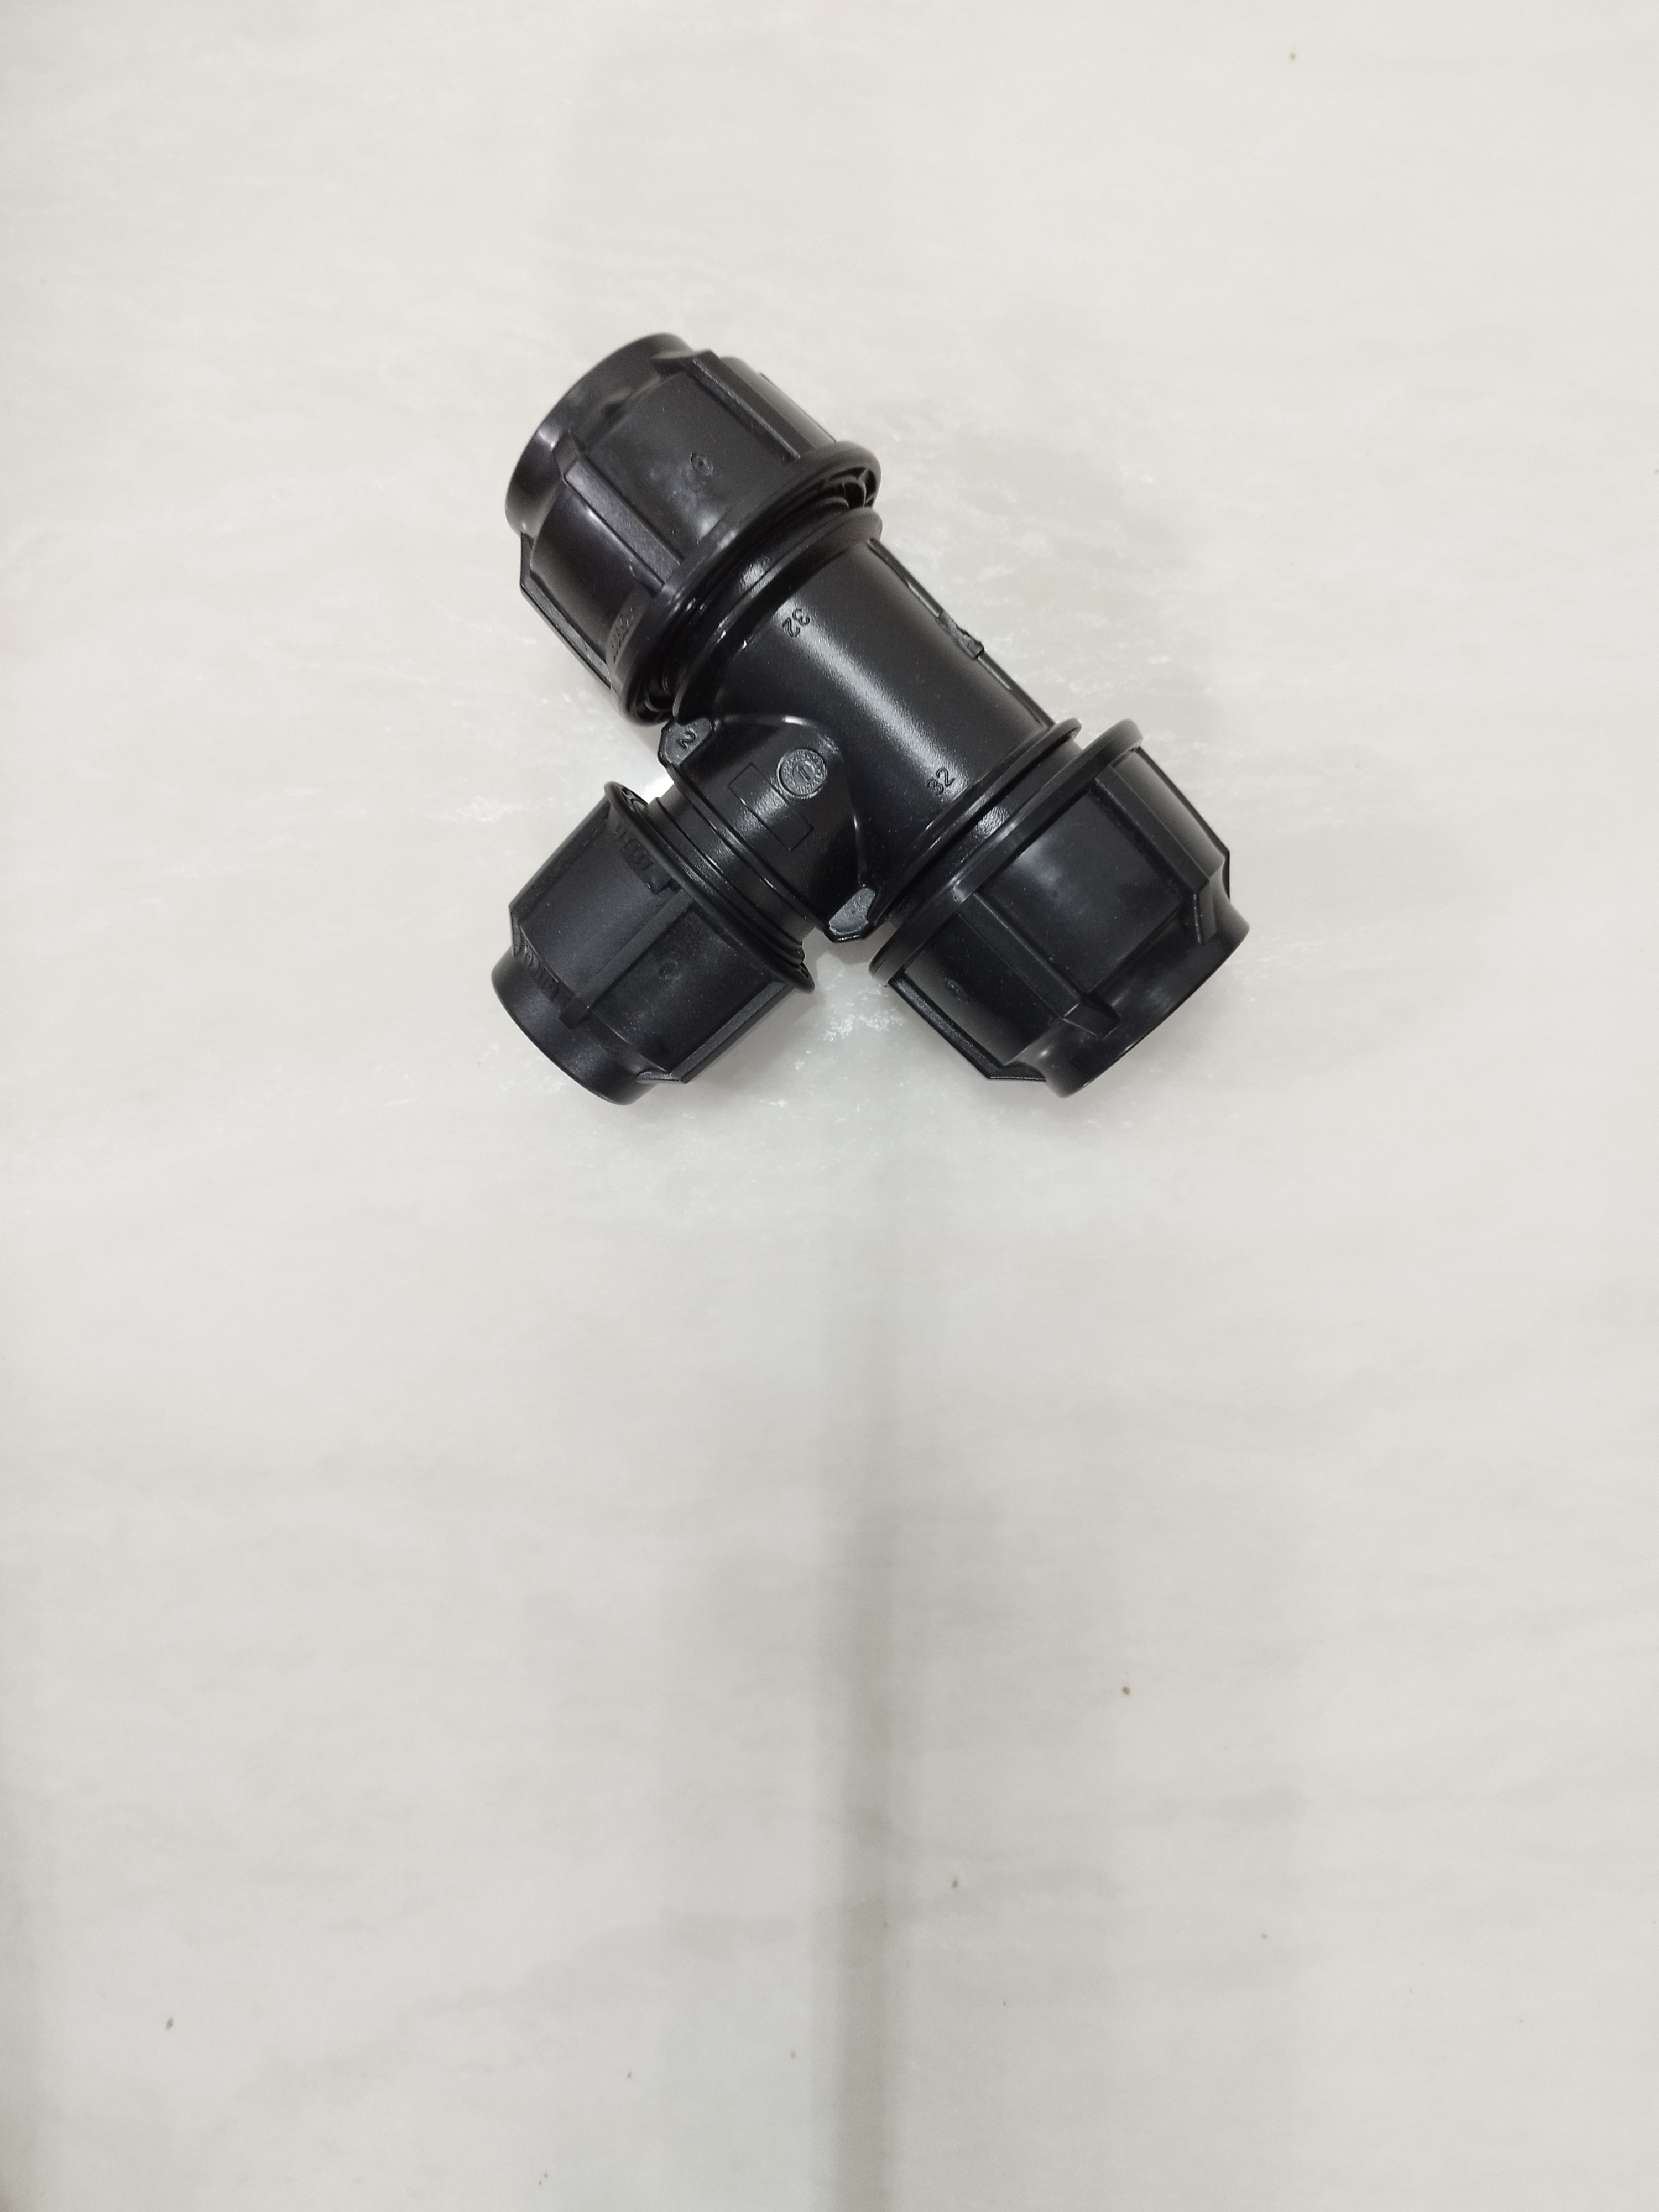plastic_tee_connector: (418, 301, 1272, 1136)
